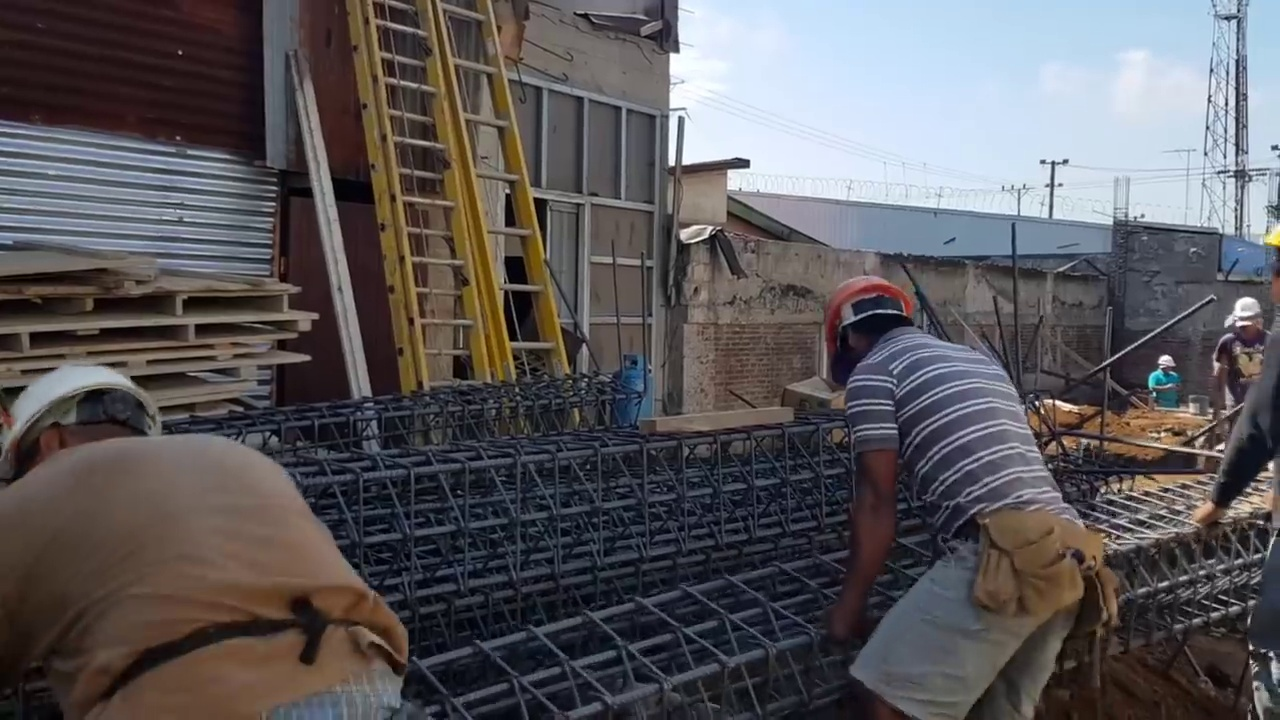helmet: (3, 373, 143, 459), (823, 282, 914, 365), (1225, 300, 1263, 326), (1157, 354, 1178, 367)
helmet-on: (3, 369, 163, 484), (818, 271, 930, 389), (1223, 297, 1270, 350), (1156, 355, 1177, 375)
person: (0, 375, 450, 704), (803, 268, 1121, 720), (1190, 219, 1280, 607), (1212, 296, 1274, 419), (1149, 356, 1182, 409)
